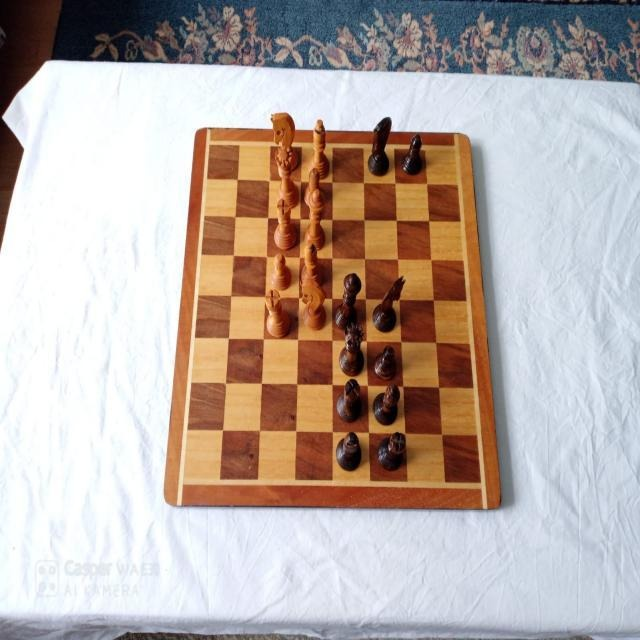black-bishop: (371, 381, 401, 426), (333, 431, 363, 473)
black-king: (338, 271, 364, 328)
black-knight: (371, 274, 407, 333), (366, 117, 393, 175)
black-pawn: (400, 132, 425, 175), (373, 344, 397, 380)
black-queen: (337, 308, 367, 377)
black-rook: (377, 429, 407, 472), (335, 380, 364, 424)
white-bishop: (309, 118, 331, 175), (299, 239, 324, 289)
white-king: (306, 188, 328, 254)
white-knight: (271, 111, 301, 172), (301, 280, 327, 331)
white-pawn: (304, 167, 326, 209), (270, 253, 293, 291)
white-queen: (274, 151, 302, 212)
white-rook: (264, 288, 294, 340), (274, 197, 298, 250)
